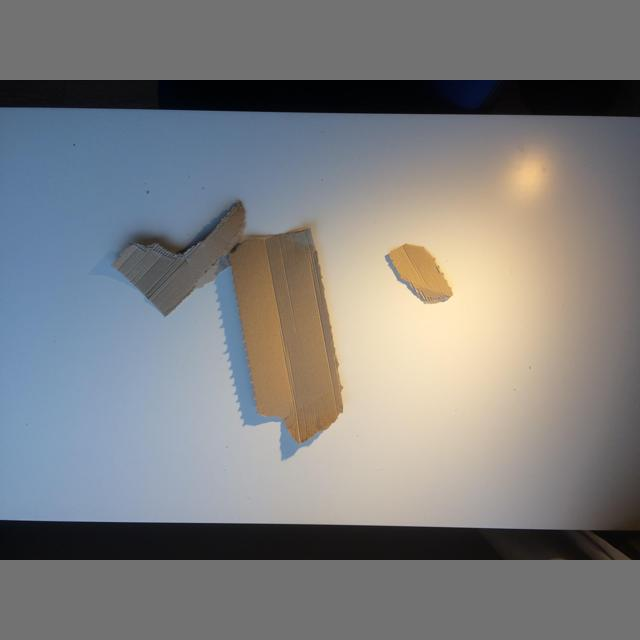litter: (229, 228, 344, 445), (111, 201, 246, 317), (388, 244, 453, 305)
